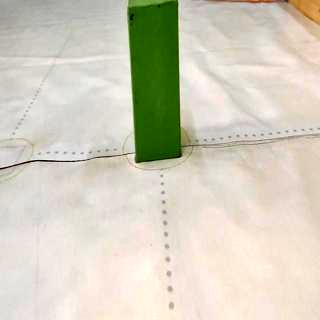greenbox: (126, 1, 184, 168)
